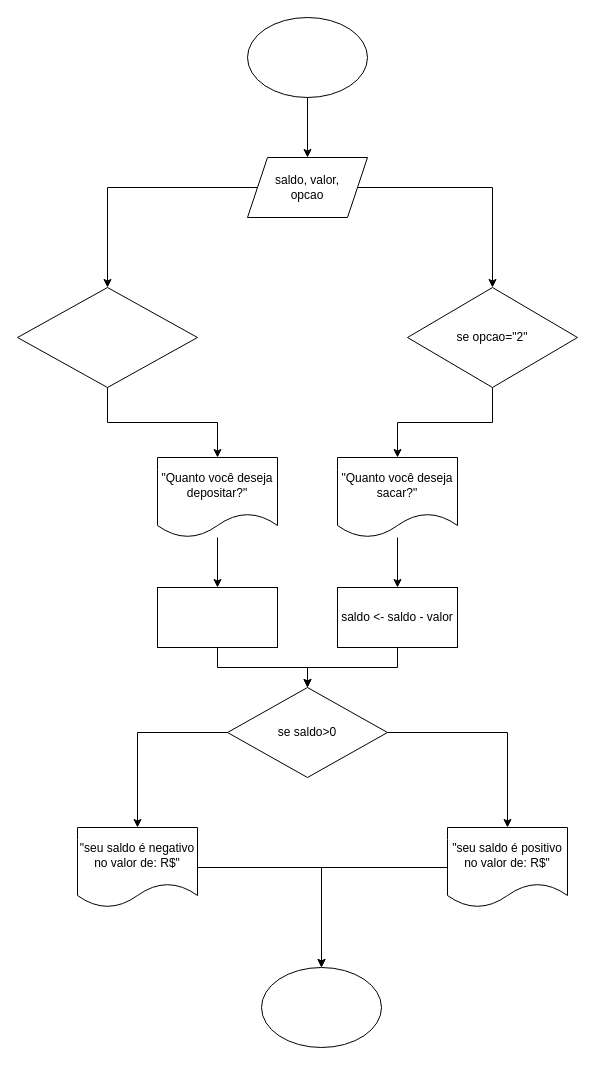
Image size: 595x1065. Some labels were removed from this diagram. Each missing label, with the centre of its shape:
Fim: point (321, 1007)
início: point (307, 57)
saldo <- saldo + valor: point (217, 617)
se opcao="1": point (107, 337)
